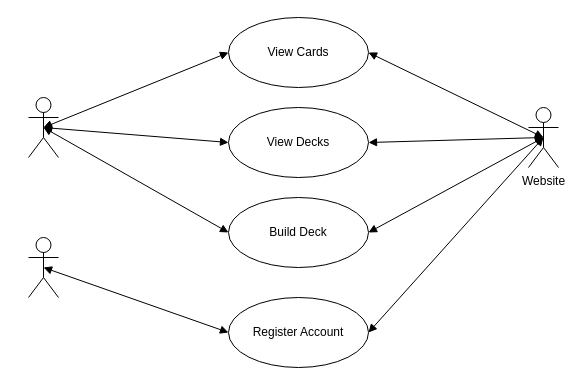
Some shapes in this 582 by 385 pixel diagram are drawn without their labels. Here are the shapes that lost their labels. From the top down, the centre of each, then its label:
At (43,127): "User".
At (43,267): "New User".
